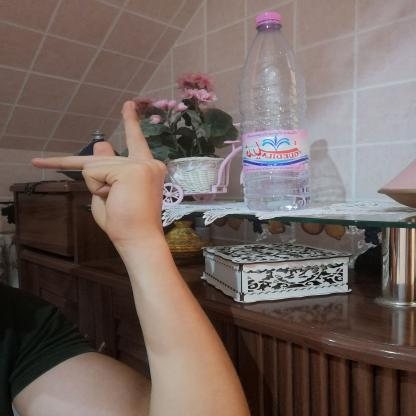DHAA: (21, 92, 179, 250)
